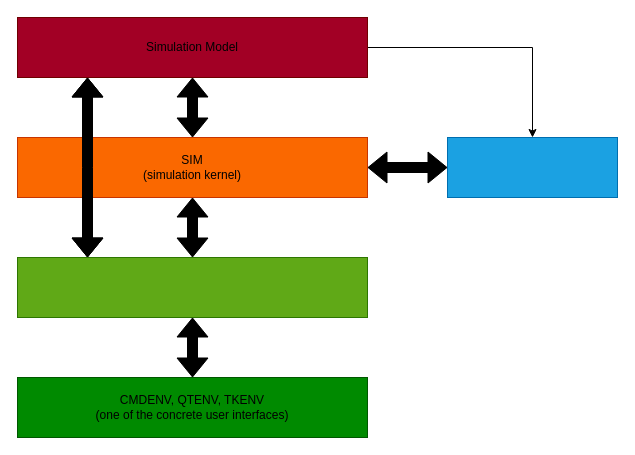
Some shapes in this 635 by 455 pixel diagram are drawn without their labels. Each missing label, with the box of its shape:
ENVIR (user interface common base): (16, 256, 368, 318)
Simulation Library: (446, 136, 618, 198)
